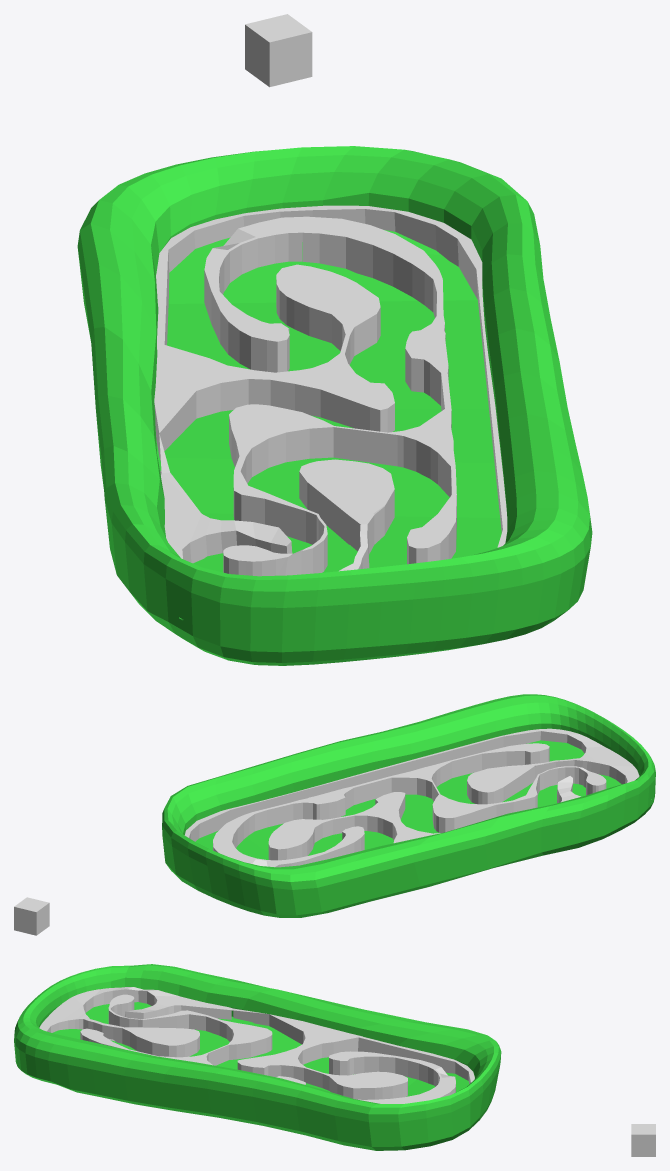
The model's file is raceTrack.fbx.
3 views of the same model, one above another, from view 1: azimuth 30°, elevation 25°; view 2: azimuth 150°, elevation 25°; view 3: azimuth 270°, elevation 25° (orthographic). The views are drawn at different scales.
Parts seen in each view (by area): view 1: Cube, Cube.003, Cube.005; view 2: Cube, Cube.003, Cube.005; view 3: Cube, Cube.003, Cube.005.
Part boxes in pixels (bbox=[...]): Cube: bbox=[77, 146, 592, 665]; Cube.003: bbox=[154, 205, 507, 576]; Cube.005: bbox=[245, 14, 312, 87]; Cube: bbox=[162, 694, 655, 917]; Cube.003: bbox=[184, 728, 639, 867]; Cube.005: bbox=[14, 897, 49, 935]; Cube: bbox=[14, 964, 501, 1150]; Cube.003: bbox=[39, 987, 474, 1103]; Cube.005: bbox=[631, 1124, 655, 1156].
Bounding box in the file's own units: 13104 × 2191 × 21888.
